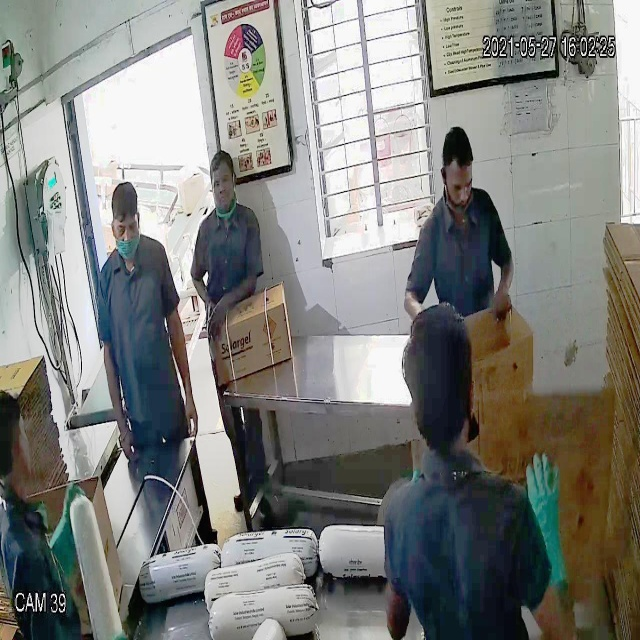Sin_gafas: (434, 164, 478, 204), (107, 209, 146, 245)
